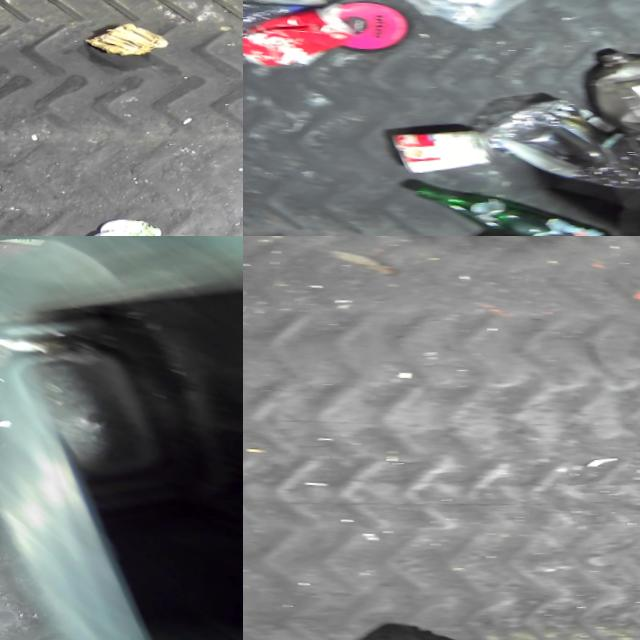can: (243, 0, 354, 77), (391, 119, 497, 176)
plastic_bottle: (243, 0, 352, 42)
